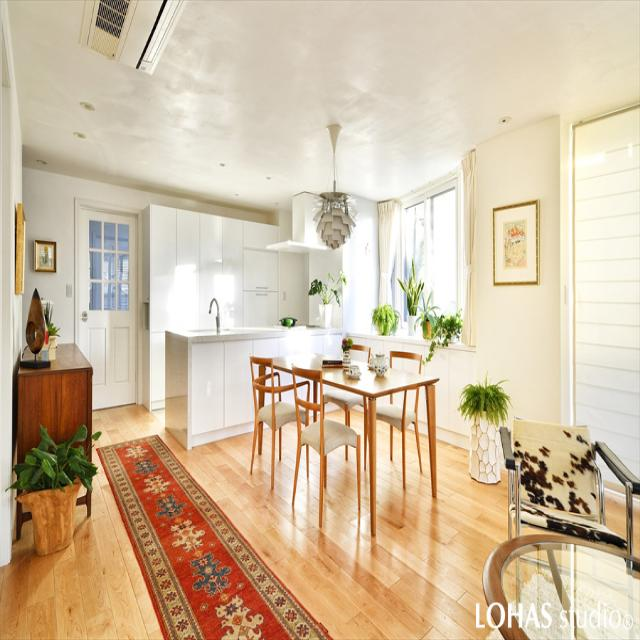vintage chair: (289, 361, 366, 529), (388, 348, 424, 494), (249, 355, 284, 494)
vintage desk: (265, 344, 444, 545)
vintage shelf: (14, 338, 89, 461)
